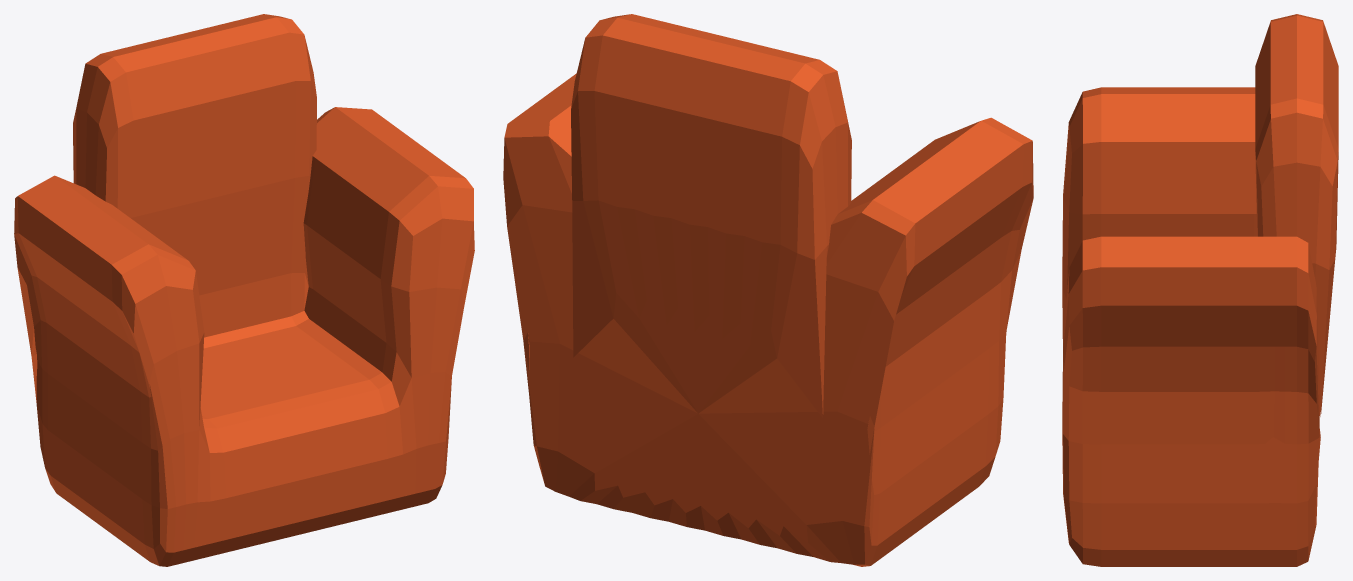
The model's file is sofa.glb.
The picture shows the model from 3 angles, left to right: view 1: azimuth 30°, elevation 25°; view 2: azimuth 150°, elevation 25°; view 3: azimuth 270°, elevation 25°; orthographic projection. The views are drawn at different scales.
Parts seen in each view (by area): view 1: sofa; view 2: sofa; view 3: sofa.
Boxes of the visible parts, box(x1,y1,x2,y2) form: sofa: box(14, 14, 474, 566); sofa: box(503, 14, 1033, 566); sofa: box(1062, 14, 1338, 566).
Size of the model in its own units: 0.7769 by 0.8912 by 0.5046.
